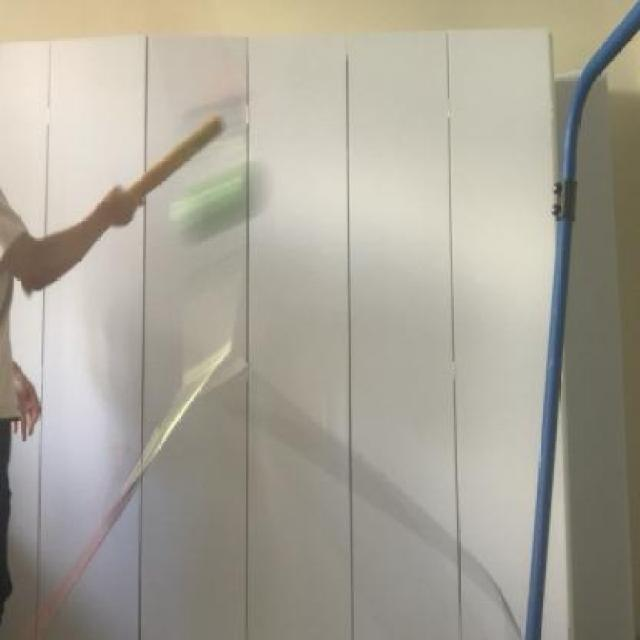baseball: (174, 158, 268, 239)
